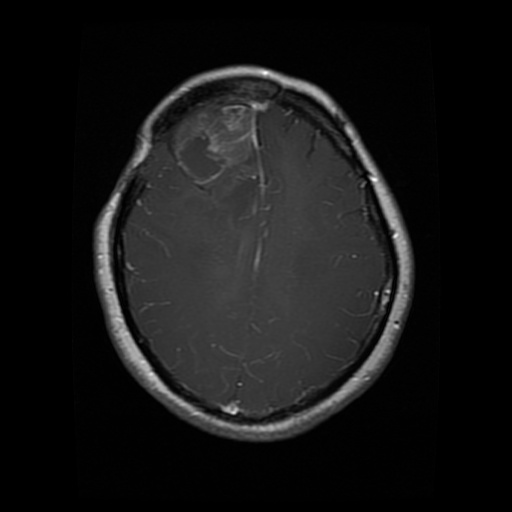glioma: (168, 93, 284, 216)
